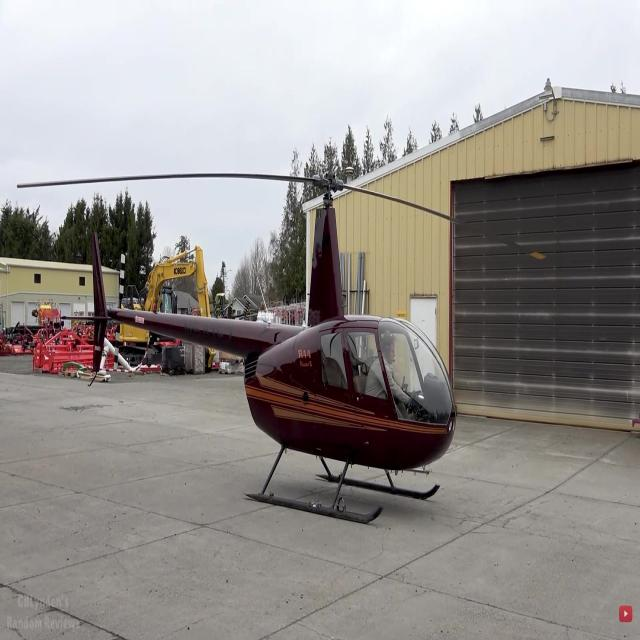CIV_HELO: (58, 170, 458, 529)
